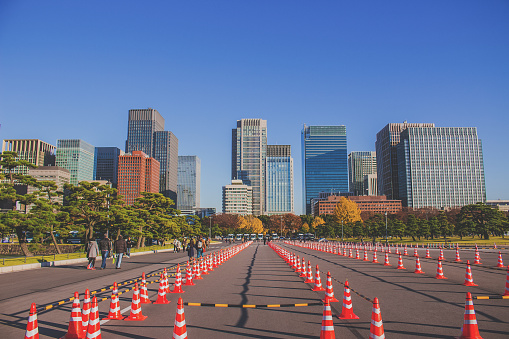trafficcone: (461, 292, 485, 338), (60, 291, 83, 338), (102, 280, 125, 321), (123, 282, 147, 321), (86, 296, 103, 338), (319, 297, 336, 338), (369, 297, 386, 338), (321, 270, 340, 303), (152, 274, 172, 305), (172, 297, 187, 338), (25, 302, 39, 337), (138, 271, 152, 303), (462, 259, 478, 286), (83, 289, 92, 333), (171, 263, 183, 295), (434, 255, 448, 280), (313, 263, 324, 291), (161, 267, 172, 294), (492, 249, 506, 268), (192, 256, 203, 279), (184, 261, 194, 286), (395, 251, 408, 270), (415, 253, 425, 275), (472, 245, 483, 265), (304, 260, 313, 284), (381, 250, 394, 266), (452, 244, 463, 262), (437, 242, 447, 260), (423, 242, 433, 259), (371, 247, 379, 264), (300, 257, 306, 277), (295, 255, 302, 272), (401, 242, 409, 256), (292, 252, 295, 268)
